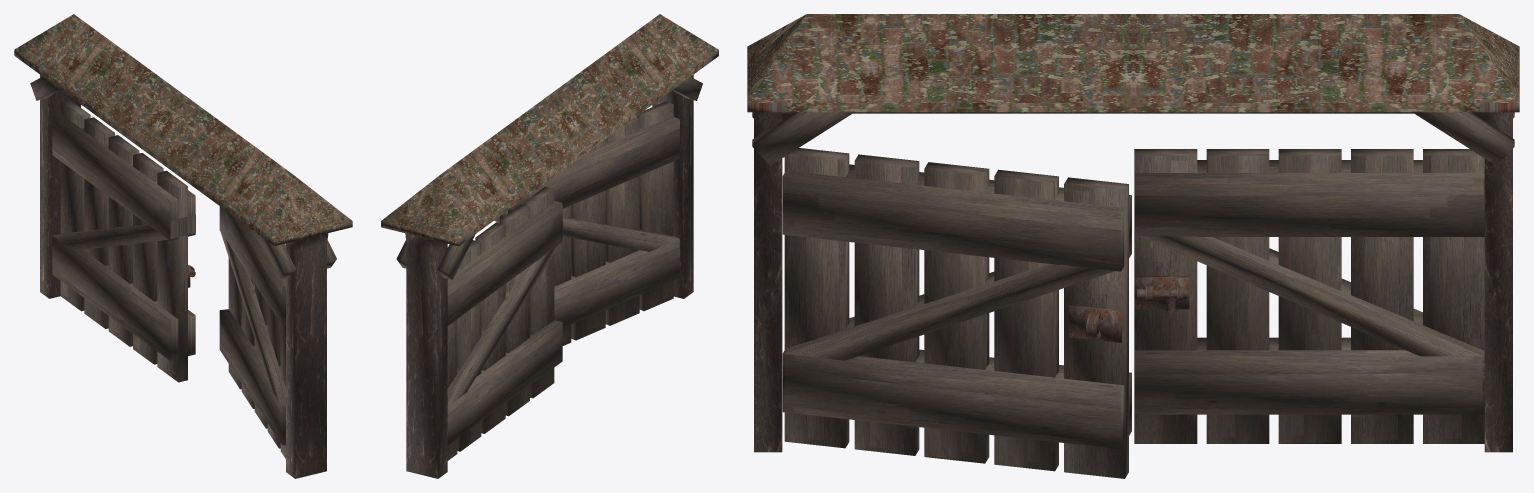
The model's file is Gate.fbx.
3 renders of one model, left to right at view 1: azimuth 30°, elevation 25°; view 2: azimuth 150°, elevation 25°; view 3: azimuth 270°, elevation 25°, orthographic. The views are drawn at different scales.
Visible parts, largest first — view 1: gate; view 2: gate; view 3: gate.
Part boxes in pixels (x1,y1,x2,y2): gate: [14, 14, 352, 478]; gate: [381, 14, 718, 478]; gate: [747, 14, 1519, 478].
Size of the model in its own units: 546 by 1501 by 2462.
Materials: 1 (1 with a texture image).
